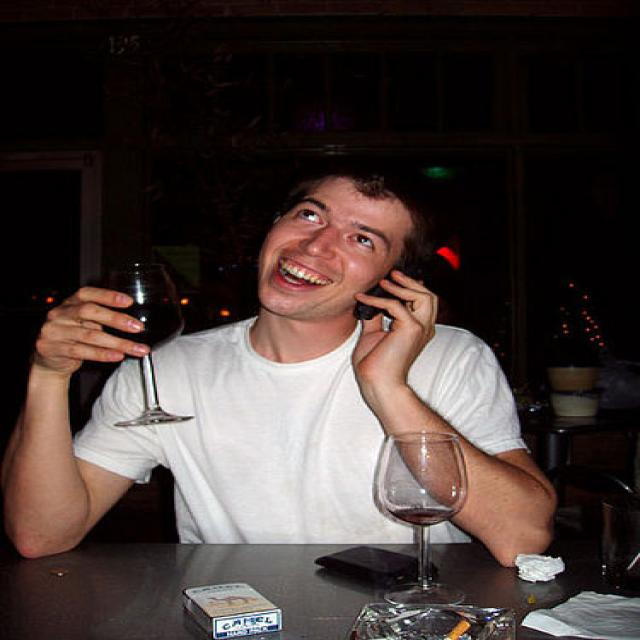Cup: (372, 411, 513, 604), (103, 210, 209, 440)
People: (211, 160, 512, 567)
Table: (2, 499, 640, 640)
